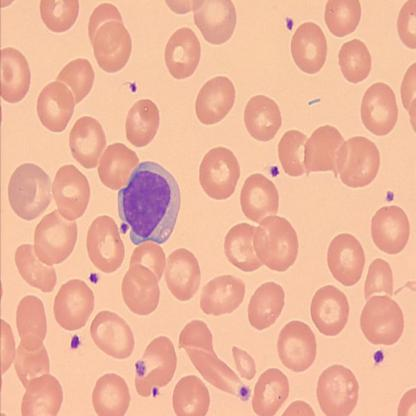Atypical lymphocyte: (119, 159, 182, 246)
